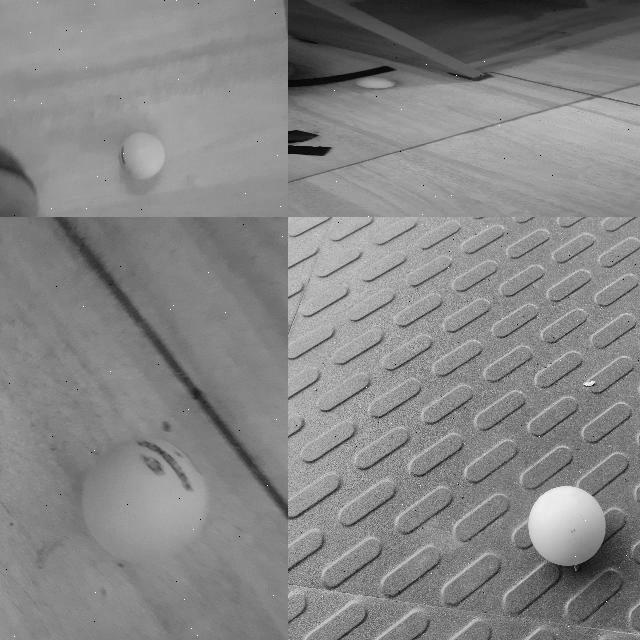ping-pong-ball: (81, 441, 205, 563), (528, 486, 606, 566), (120, 132, 163, 178), (355, 77, 395, 88)
